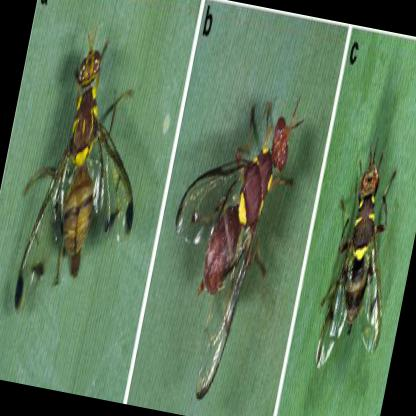fruit fly: (176, 93, 302, 403), (13, 49, 133, 307), (312, 142, 385, 379)
